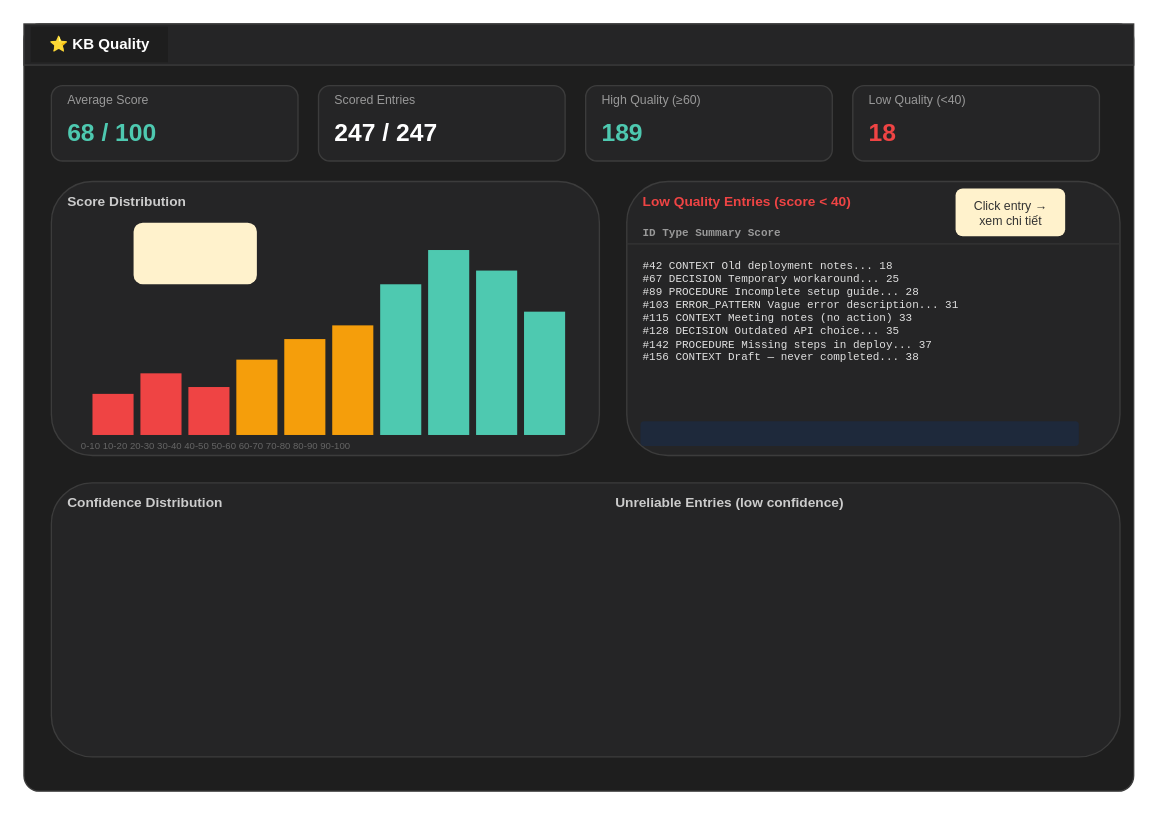
Image size: 1158x815. Some labels were removed from this diagram. The centre of each missing label's shape, as x and y in pixels:
"☐ Select All 📦 Archive 🗑️ Delete 📝 Mark for Review" belongs at (x=859, y=433).
"🔴 Đỏ = kém 🟡 Vàng = TB 🟢 Xanh = tốt" belongs at (x=194, y=253).
